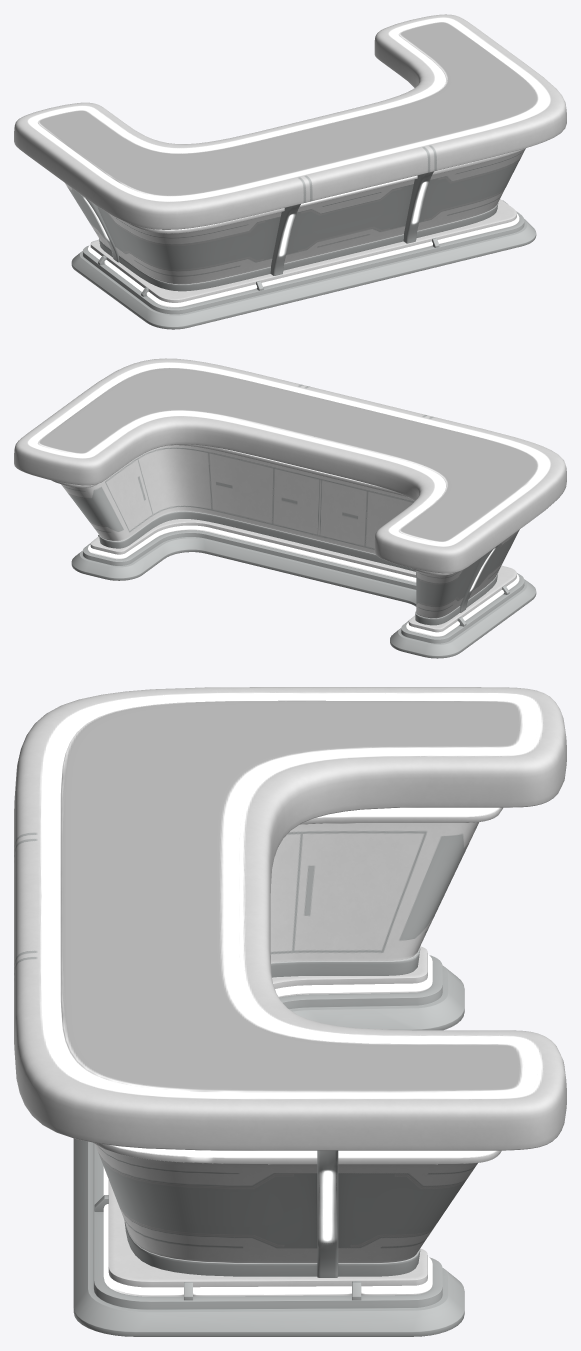
Rendered from BartenderTable02_2.FBX.
The picture shows the model from 3 angles, top to bottom: view 1: azimuth 30°, elevation 25°; view 2: azimuth 150°, elevation 25°; view 3: azimuth 270°, elevation 25°; orthographic projection. The views are drawn at different scales.
Parts seen in each view (by area): view 1: BartenderTable02_2; view 2: BartenderTable02_2; view 3: BartenderTable02_2.
Boxes of the visible parts, x1=… form: BartenderTable02_2: x1=14, y1=14, x2=566, y2=329; BartenderTable02_2: x1=14, y1=358, x2=566, y2=658; BartenderTable02_2: x1=14, y1=687, x2=566, y2=1336.
Size of what is drawn, in the model's own units: 3.9 by 1.1 by 2.14.
